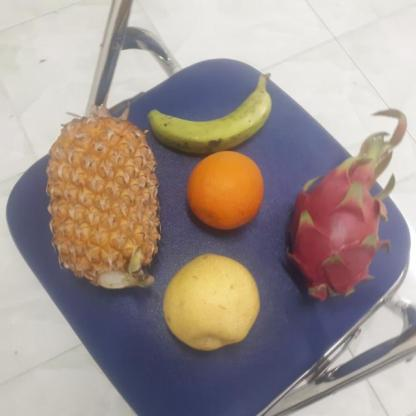banana: (144, 64, 274, 157)
orange: (184, 149, 268, 230)
pear: (157, 255, 258, 351)
pineapple: (44, 116, 159, 292)
pitaya: (278, 161, 387, 301)
